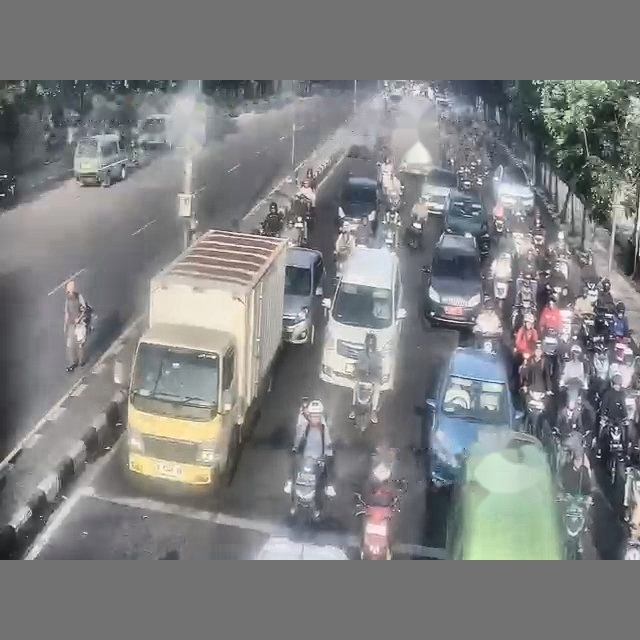Mobil: (447, 432, 565, 559), (418, 347, 522, 490), (423, 233, 483, 328), (283, 247, 324, 344), (444, 192, 490, 257), (255, 536, 348, 560), (337, 176, 379, 227), (413, 168, 456, 216), (492, 164, 534, 212), (399, 140, 435, 176), (0, 166, 16, 202), (347, 145, 373, 160)
Motor: (284, 455, 334, 521), (356, 494, 397, 559), (559, 493, 592, 559), (354, 375, 373, 432), (405, 214, 423, 249), (384, 210, 400, 248)
Truk: (126, 230, 286, 485)
